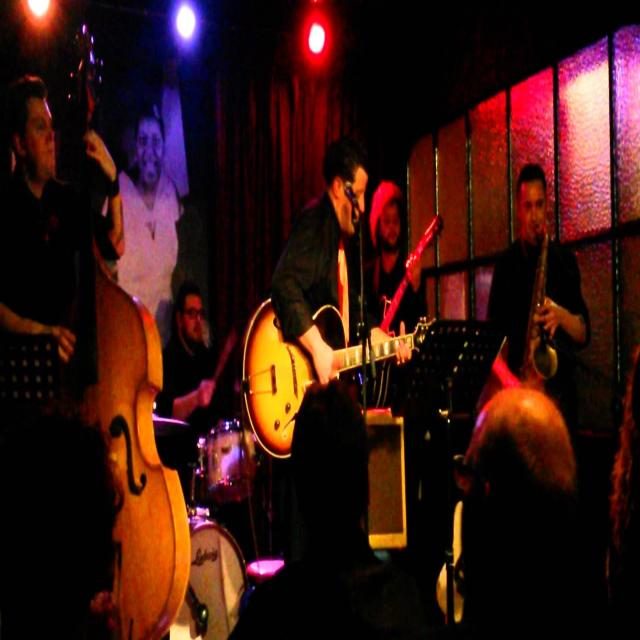body: (267, 128, 418, 460), (225, 381, 411, 640), (436, 384, 607, 639), (0, 73, 126, 407), (0, 391, 140, 640), (485, 160, 595, 450), (91, 99, 184, 358), (155, 277, 238, 473), (357, 178, 429, 342), (604, 324, 639, 624)
